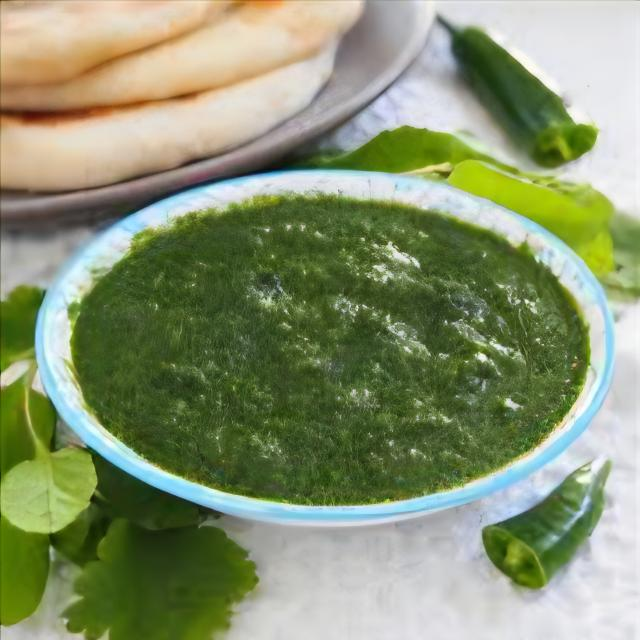GREEN CHUTNEY: (75, 197, 595, 497)
